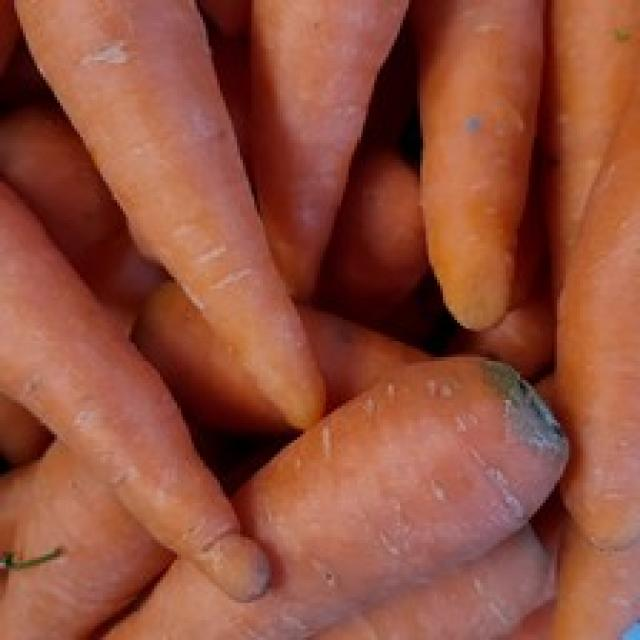Fresh_Carrot: (3, 0, 339, 429), (0, 207, 270, 598), (151, 345, 508, 640), (419, 0, 543, 315)
